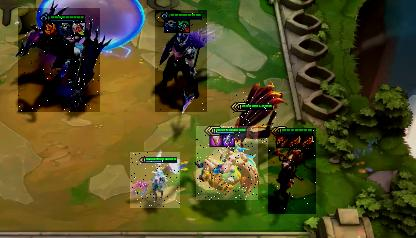1_soraka: (130, 152, 180, 208)
2_pantheon: (155, 10, 207, 112)
2_syfen: (18, 8, 100, 112)
3_rakan: (230, 92, 276, 144)
3_seraphine: (196, 126, 258, 200)
3_zyra: (268, 128, 316, 214)
